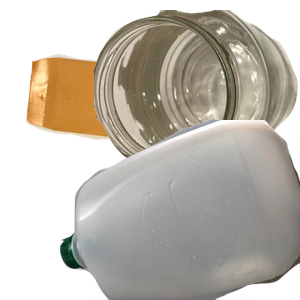glass: (94, 10, 300, 184)
paper: (23, 51, 206, 189)
plastic: (60, 120, 300, 300)
trash: (99, 155, 268, 300)
